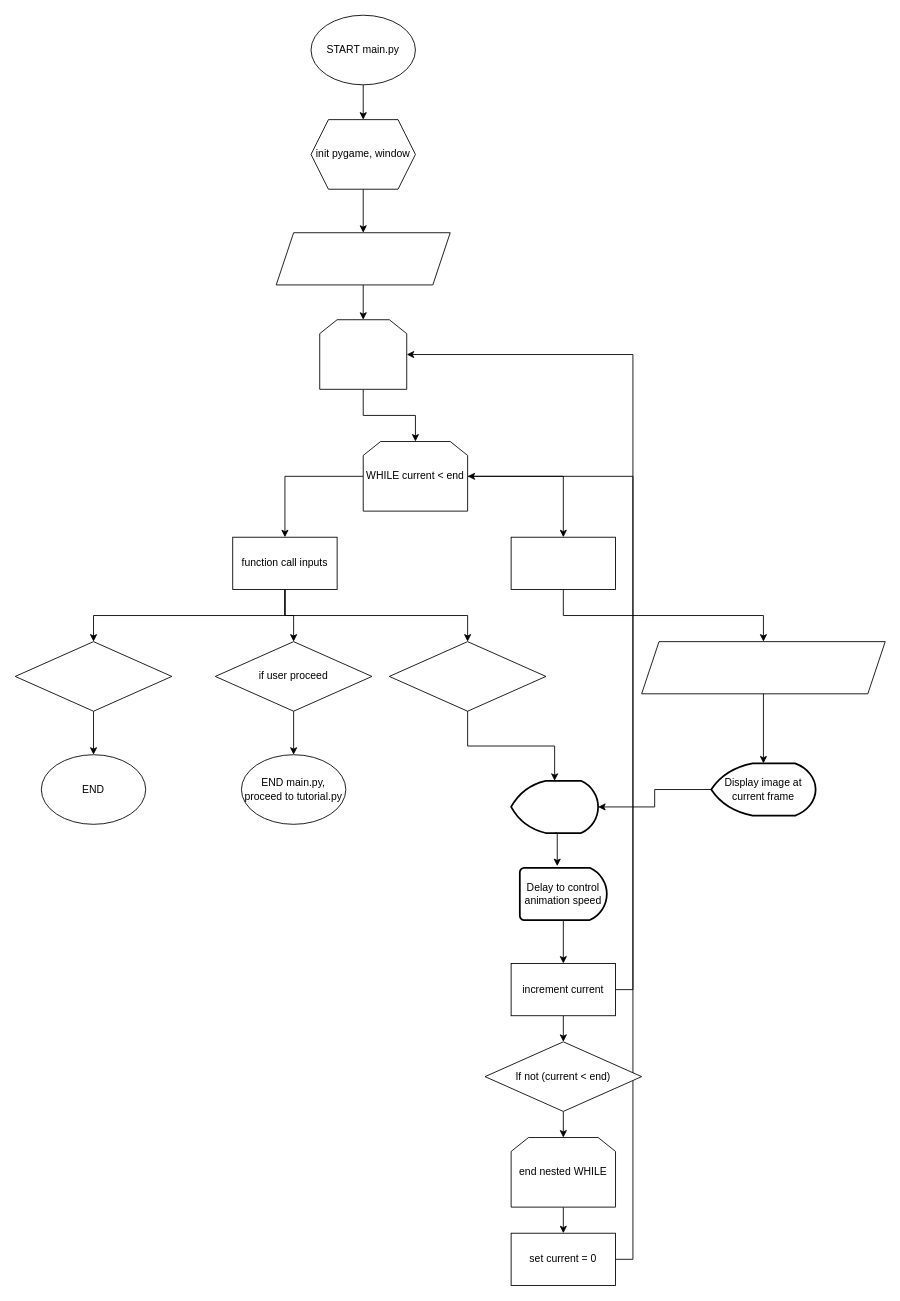
This 900x1301 diagram has some shape labels left out. The centre of each missing label's shape, as x and y in pixels:
"else" goes at (x=467, y=676).
"function call renders" goes at (x=563, y=562).
"if user quit" goes at (x=93, y=676).
"initialize current, end frames" goes at (x=362, y=258).
"Refresh Display" goes at (x=554, y=806).
"retrieve list of images from constants.py" goes at (x=763, y=667).
"WHILE TRUE" goes at (x=363, y=354).
